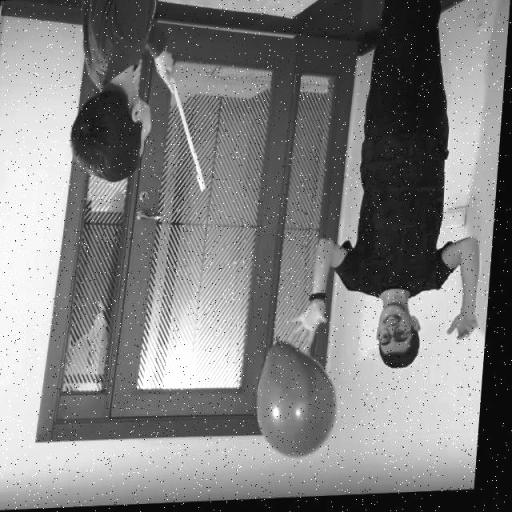balloon: (257, 338, 349, 462)
